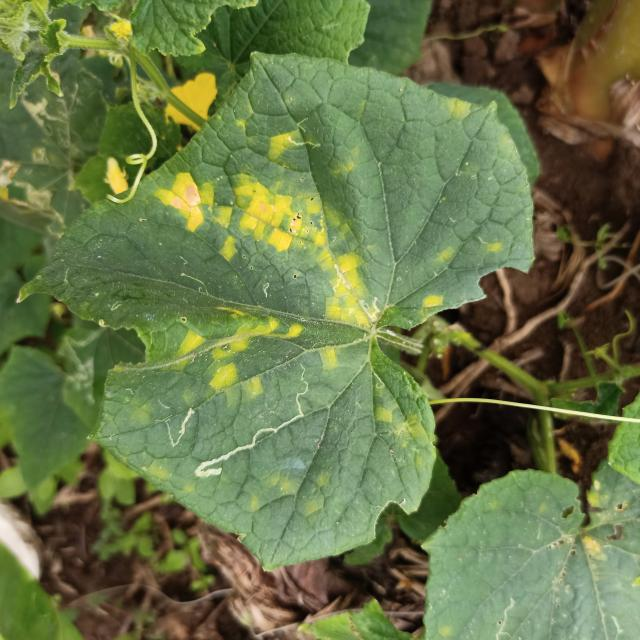disease_cucumber: (155, 129, 405, 333), (172, 310, 344, 406)
